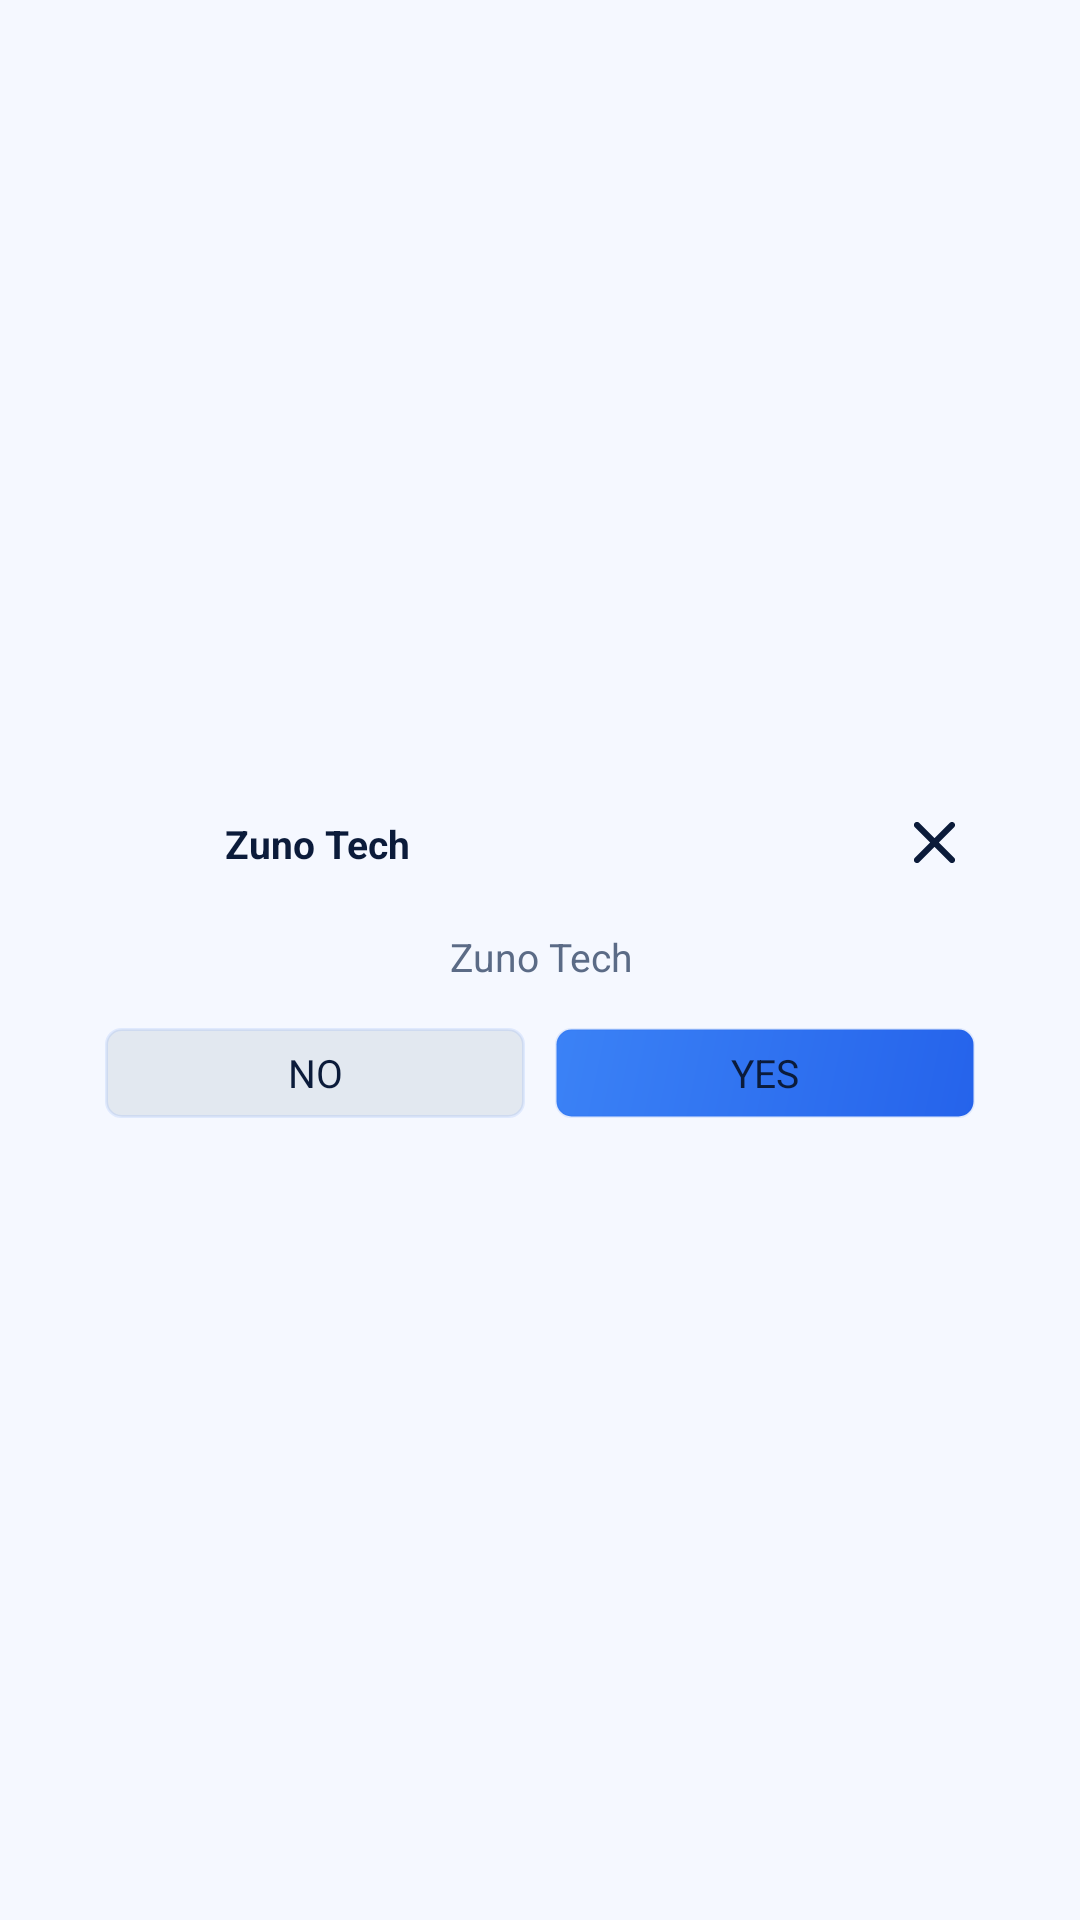

Where icons sit on this 1080*1920 app screen, as (x1, y1, x2, y2):
close: (914, 822, 955, 863)
